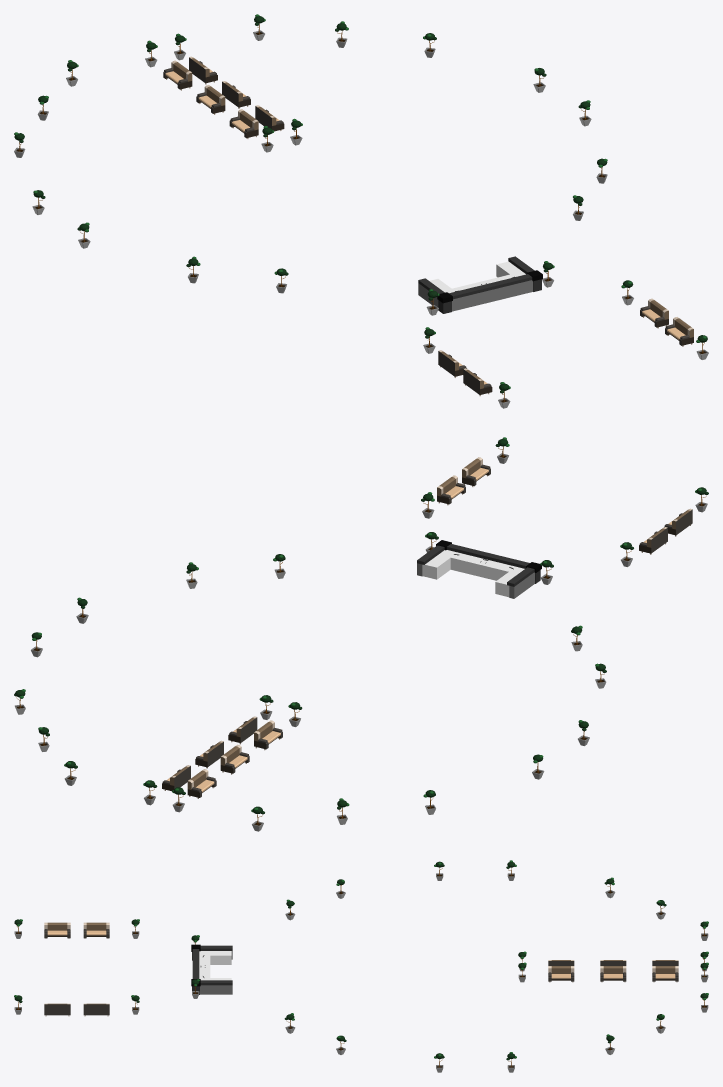
The model's file is Objetos_HallMuseu_PrimeiroAndar.gltf.
3 views of the same model, one above another, from view 1: azimuth 30°, elevation 25°; view 2: azimuth 150°, elevation 25°; view 3: azimuth 270°, elevation 25° (orthographic). The views are drawn at different scales.
Visible parts, largest first — view 1: Arvore_media_01.061; view 2: Arvore_media_01.061; view 3: Arvore_media_01.061.
Part boxes in pixels (bbox=[...]): Arvore_media_01.061: bbox=[14, 14, 708, 408]; Arvore_media_01.061: bbox=[14, 437, 708, 831]; Arvore_media_01.061: bbox=[14, 860, 708, 1072].
Size of the model in its own units: 35.51 by 1.6 by 53.39.
Materials: 1 (1 with a texture image).
